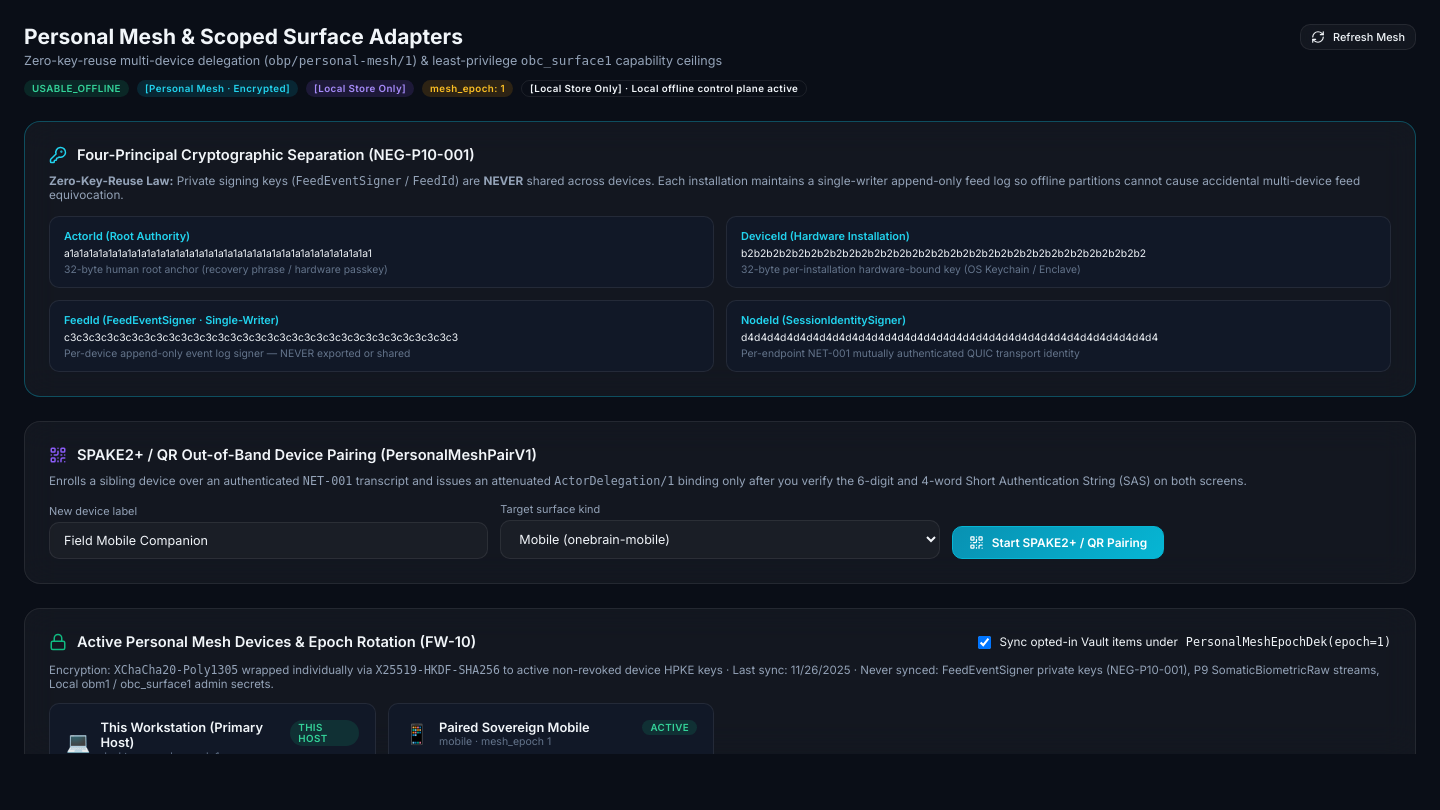
Test case: Personal Mesh & Scoped Surface Capabilities Control Plane (Devices.tsx) › rotates mesh_epoch -> mesh_epoch + 1 via ActorRevocation/1 and toggles PersonalMeshEpochDek sync (FW-10)
Expected: the text "mesh_epoch: 1" is shown, [422,80,513,97]
Click the checkbox labelled "Sync opted-in Vault items under" at (985, 642), box [978,636,991,648]
(page scrolled)
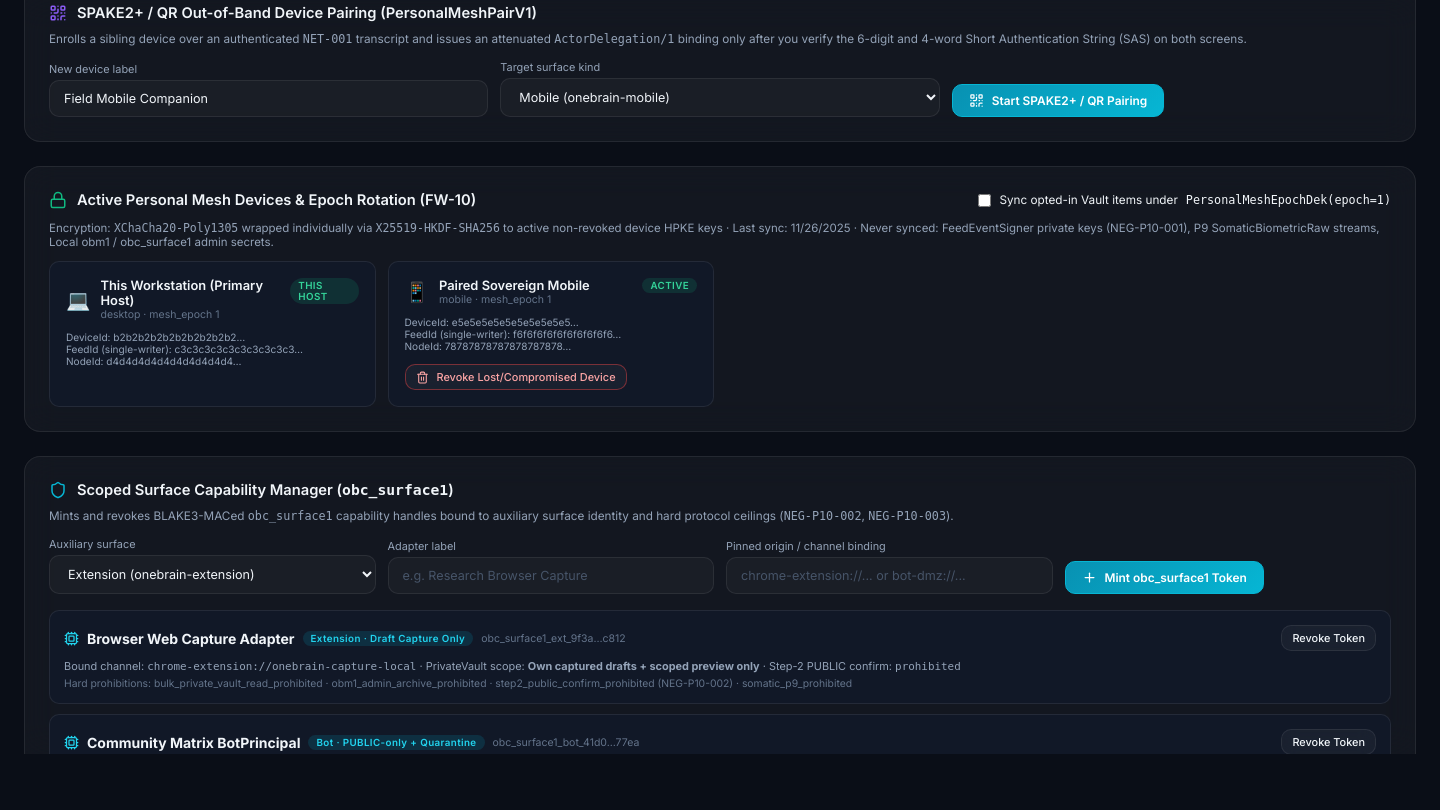
Click the button "Revoke Lost/Compromised Device" at (516, 377), box [404,364,627,390]
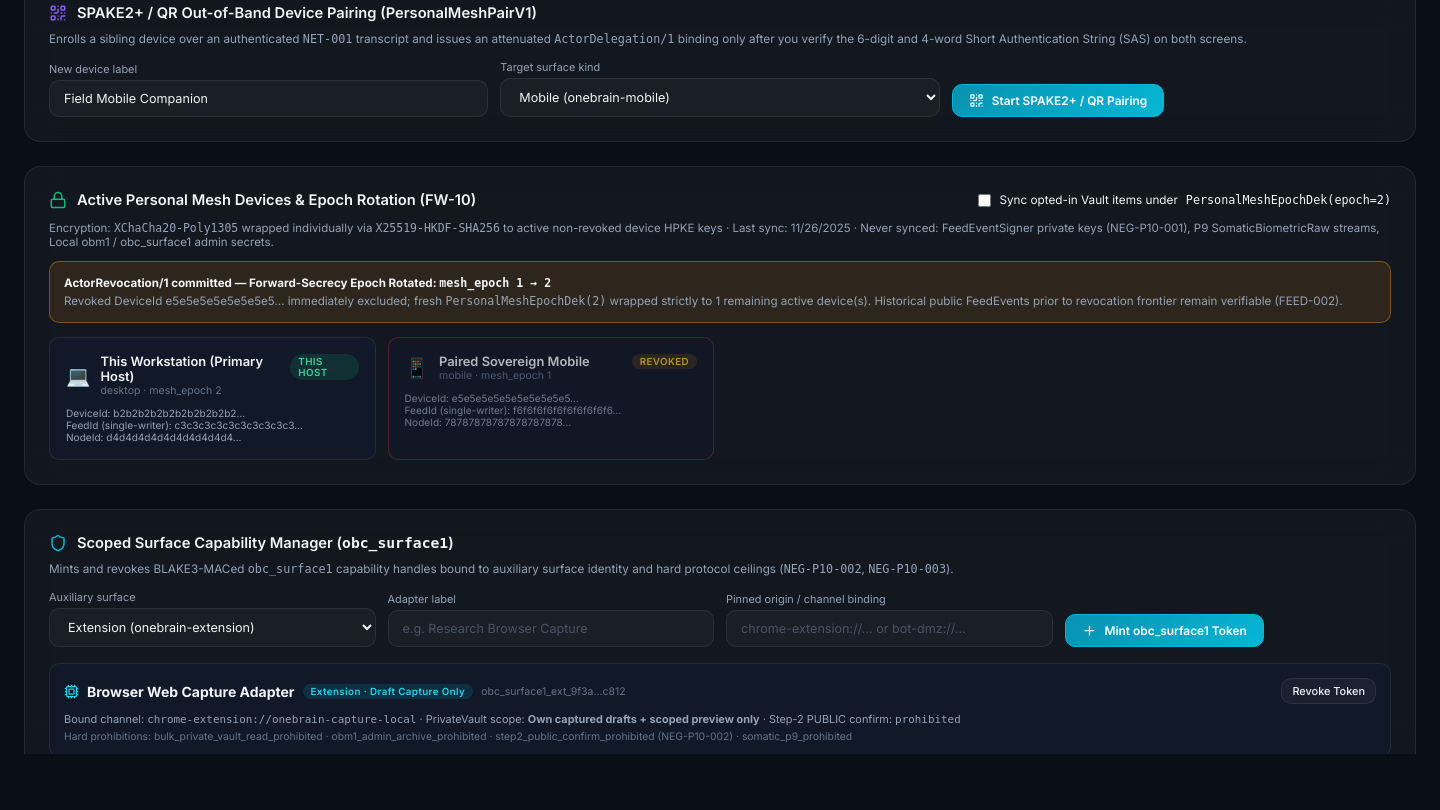
Result: the message named "ActorRevocation epoch rotation notice" shows "ActorRevocation/1" at [64,276,168,290]
Result: the message named "ActorRevocation epoch rotation notice" shows "mesh_epoch 1 → 2" at [49,261,1391,323]
Result: the message named "ActorRevocation epoch rotation notice" shows "PersonalMeshEpochDek(2)" at [49,261,1391,323]
